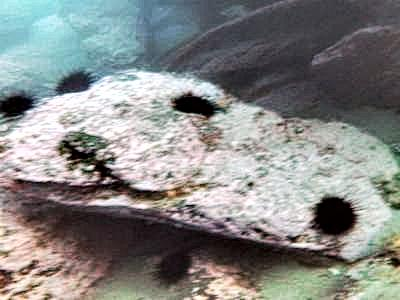urchin: (313, 194, 354, 231), (156, 247, 193, 285), (170, 93, 215, 120), (51, 68, 93, 93), (3, 94, 35, 114)
